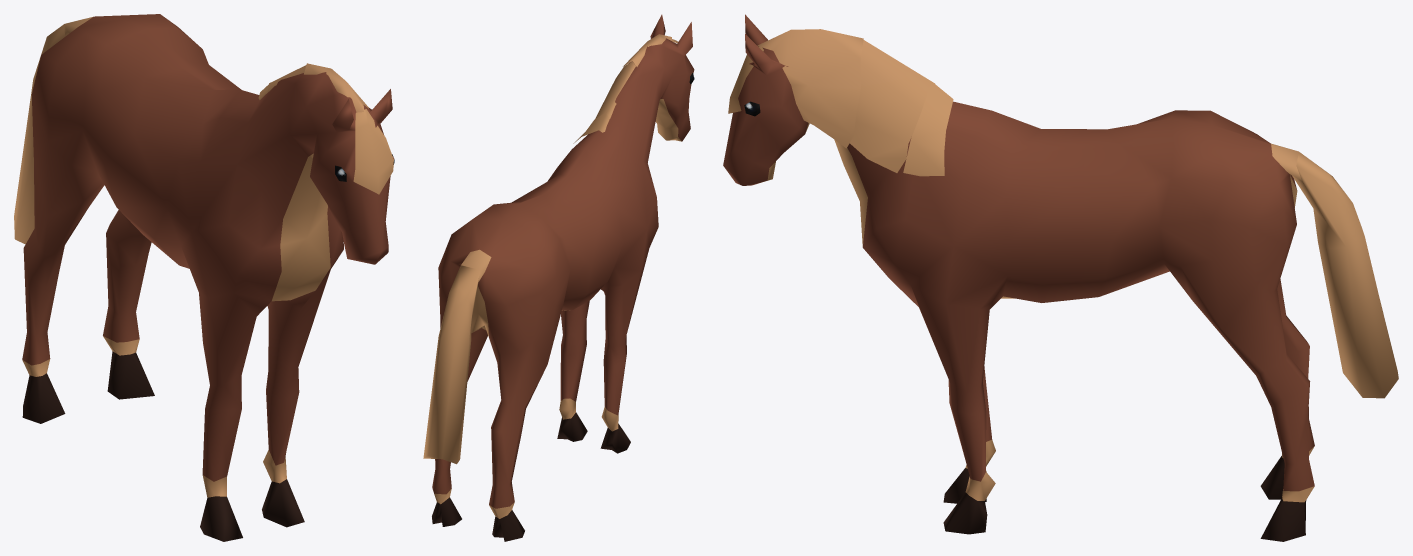
Rendered from f1e6b189-e96a-45c2-96c8-ceb463085bb9.glb.
3 renders of one model, left to right at view 1: azimuth 30°, elevation 25°; view 2: azimuth 150°, elevation 25°; view 3: azimuth 270°, elevation 25°, orthographic. The views are drawn at different scales.
Visible parts, largest first — view 1: Horse01; view 2: Horse01; view 3: Horse01.
Part boxes in pixels (x1,y1,x2,y2): Horse01: [14, 14, 394, 541]; Horse01: [423, 14, 694, 541]; Horse01: [723, 14, 1398, 541].
Size of what is drawn, in the model's own units: 0.6081 by 2.01 by 2.51.
1 material, 1 textured.
